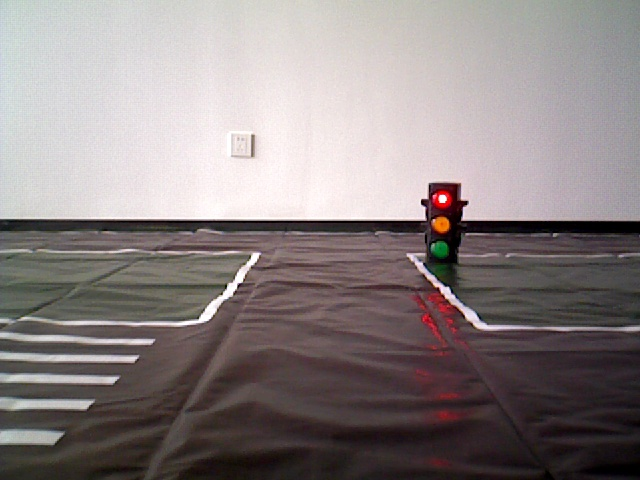red: (425, 183, 457, 260)
